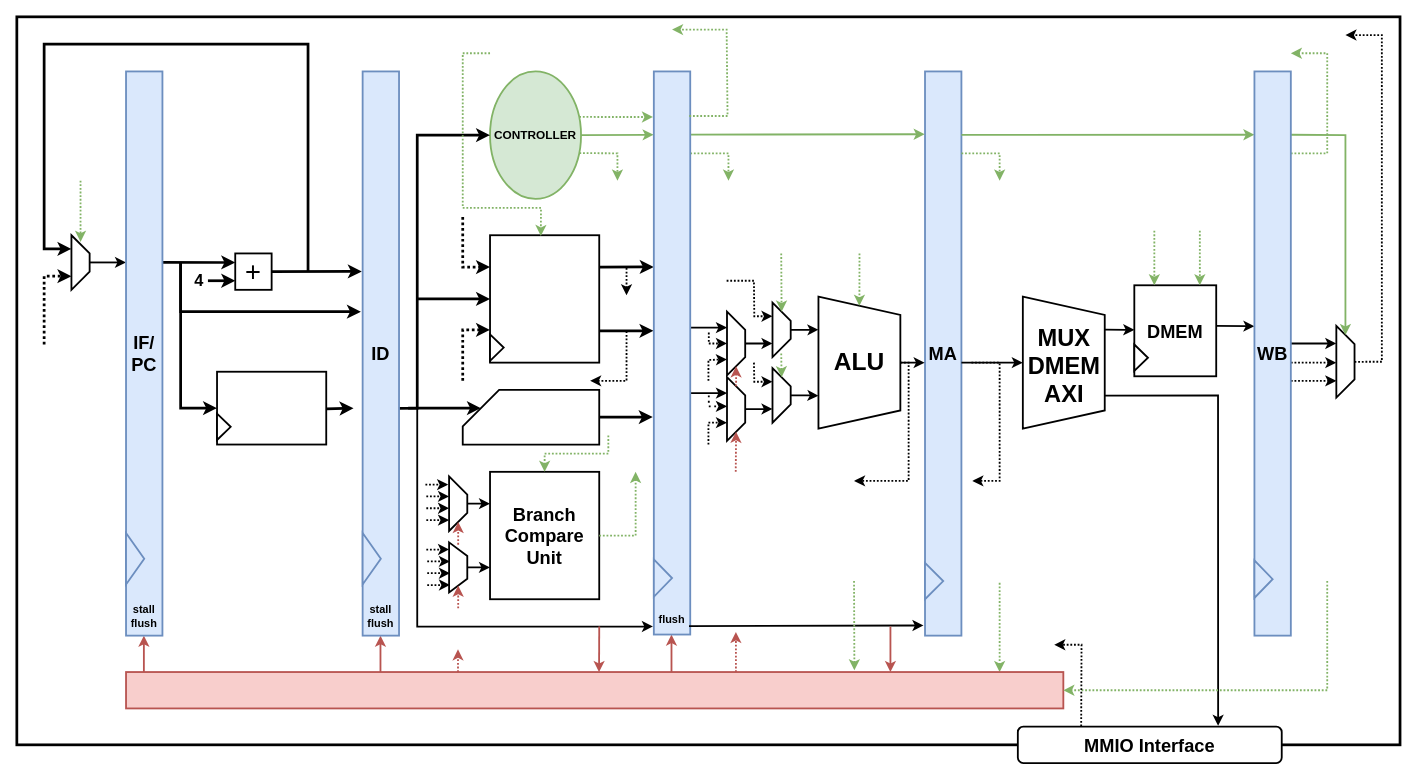
This 1417x780 diagram has some shape labels left out. Here are the shapes that lost their labels. From the top down, the box of each, then its label:
(489, 234, 600, 363): REGS 32X32
(652, 70, 691, 635): EX
(216, 370, 327, 445): IMEM
(461, 389, 600, 445): Immediate Generator
(125, 671, 1064, 709): Hazard Handler
